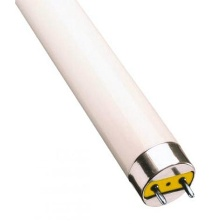light_bulb: (9, 0, 200, 209)
